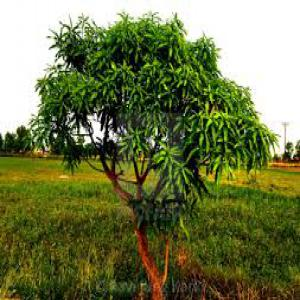Tree: (31, 9, 273, 293)
